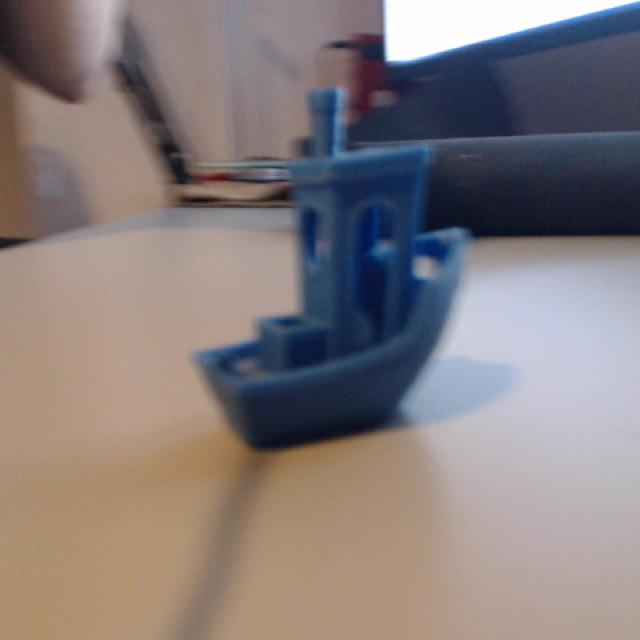benchy: (188, 85, 470, 451)
